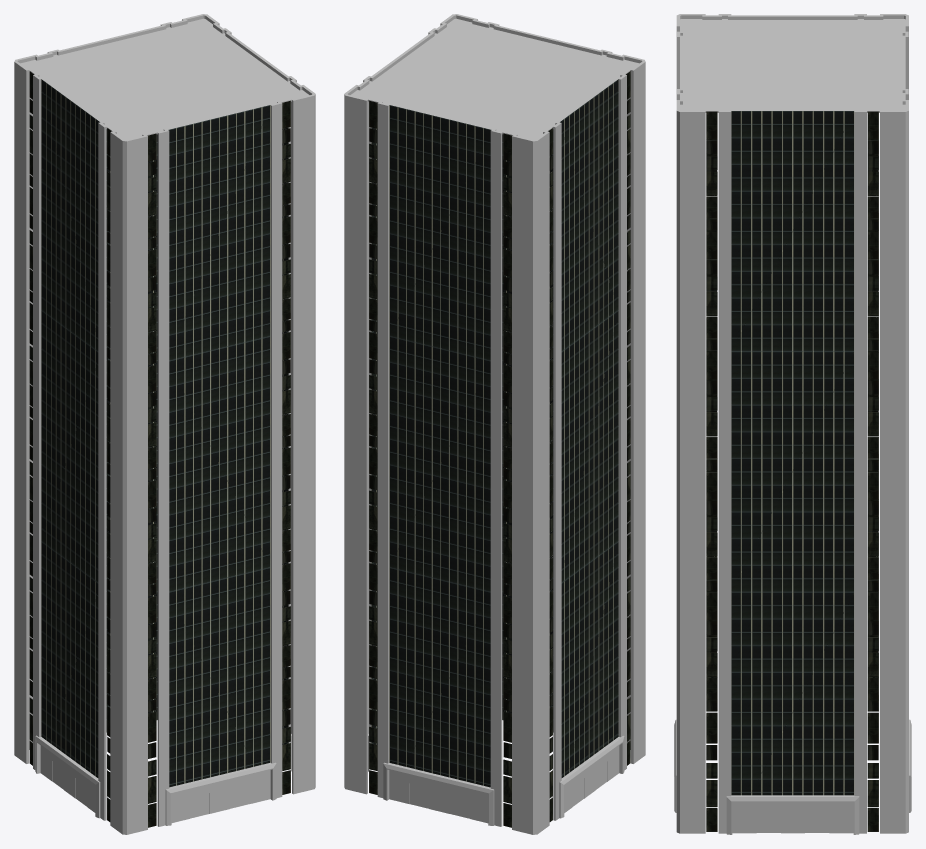
3 renders of one model, left to right at view 1: azimuth 30°, elevation 25°; view 2: azimuth 150°, elevation 25°; view 3: azimuth 270°, elevation 25°, orthographic. The views are drawn at different scales.
Parts seen in each view (by area): view 1: EC-042; view 2: EC-042; view 3: EC-042.
Boxes of the visible parts, x1,y1,x2,y2 form: EC-042: (14, 14, 315, 834); EC-042: (344, 14, 645, 834); EC-042: (674, 14, 911, 834).
Size of what is drawn, in the model's own units: 26.13 by 87.69 by 26.14.
